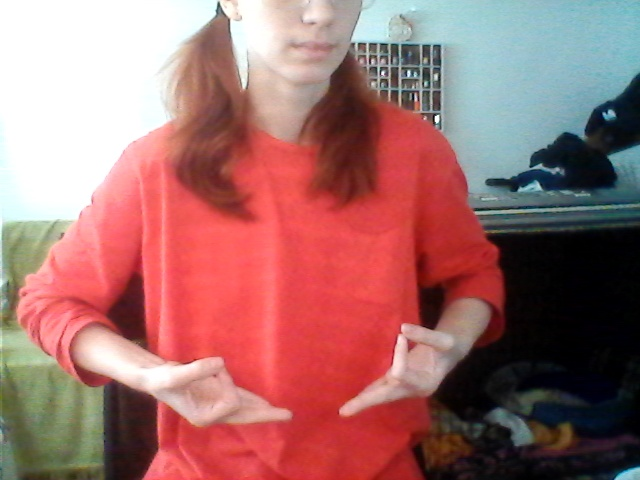preco: (146, 306, 464, 439)
